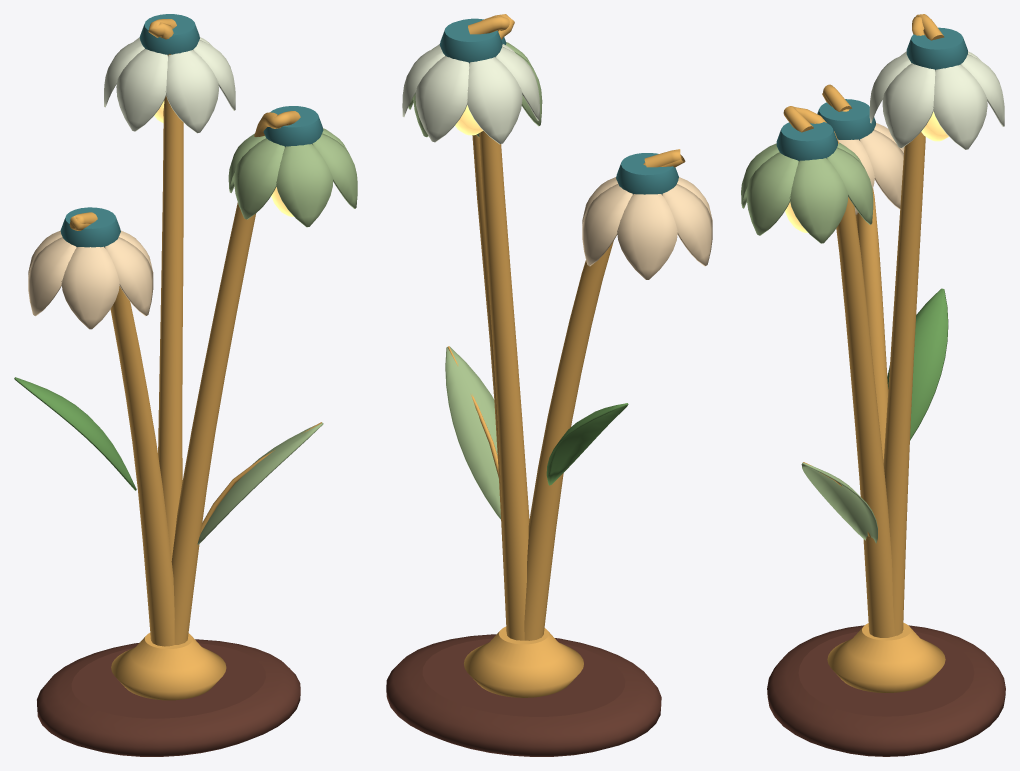
The model's file is atelier_lily_lamp.glb.
3 views of the same model, side by side, from view 1: azimuth 30°, elevation 25°; view 2: azimuth 150°, elevation 25°; view 3: azimuth 270°, elevation 25° (orthographic). The views are drawn at different scales.
Visible parts, largest first — view 1: Lámpara de lirios; view 2: Lámpara de lirios; view 3: Lámpara de lirios.
Part boxes in pixels (bbox=[...]): Lámpara de lirios: bbox=[14, 14, 357, 756]; Lámpara de lirios: bbox=[386, 14, 712, 756]; Lámpara de lirios: bbox=[741, 14, 1005, 756].
Bounding box in the file's own units: 0.7148 × 1.56 × 0.5379.
